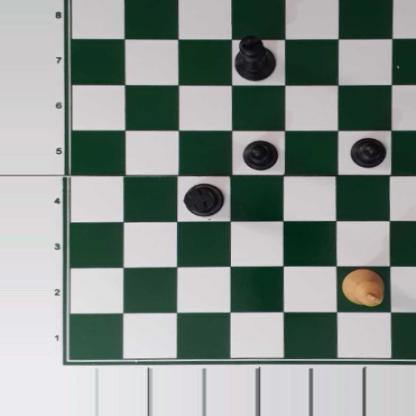black-king: (231, 34, 277, 80)
black-pawn: (240, 138, 279, 171), (349, 136, 387, 168)
black-rook: (183, 183, 225, 218)
white-king: (340, 266, 383, 307)
